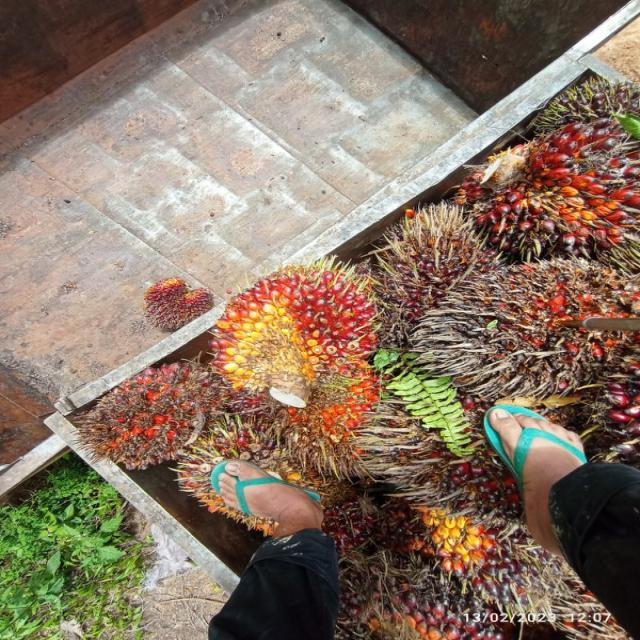fraksi 3: (196, 247, 400, 422), (466, 115, 640, 248), (131, 263, 228, 333)
fraksi 4: (430, 237, 626, 391), (76, 364, 213, 464)
